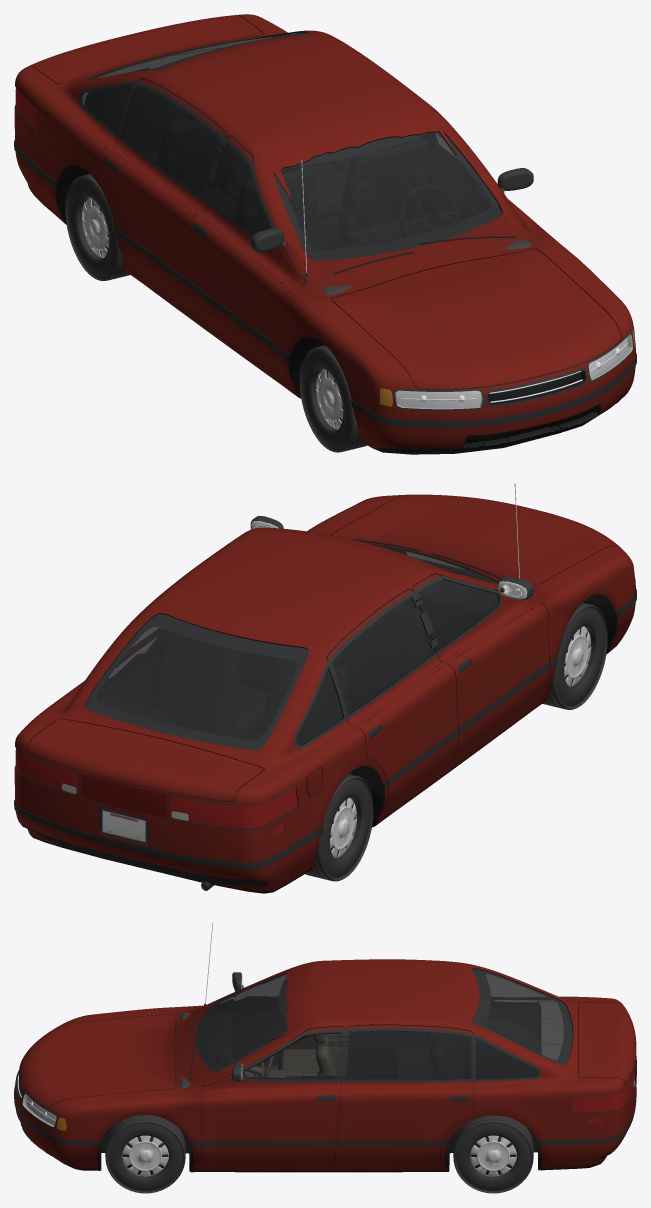
The model's file is car_hero.glb.
The picture shows the model from 3 angles, top to bottom: view 1: azimuth 30°, elevation 25°; view 2: azimuth 150°, elevation 25°; view 3: azimuth 270°, elevation 25°; orthographic projection. The views are drawn at different scales.
Visible parts, largest first — view 1: body, wheel_FR, wheel_RR; view 2: body, wheel_RR, wheel_FR; view 3: body, wheel_FL, wheel_RL.
Part boxes in pixels (x1=…): body: x1=14, y1=14, x2=636, y2=454; wheel_FR: x1=299, y1=345, x2=367, y2=452; wheel_RR: x1=65, y1=174, x2=130, y2=280; body: x1=14, y1=483, x2=636, y2=893; wheel_RR: x1=305, y1=774, x2=373, y2=881; wheel_FR: x1=542, y1=602, x2=607, y2=709; body: x1=14, y1=923, x2=636, y2=1172; wheel_FL: x1=105, y1=1115, x2=185, y2=1193; wheel_RL: x1=453, y1=1115, x2=533, y2=1193.
Size of the model in its own units: 1.88 by 1.62 by 4.91.
12 materials, 1 textured.
